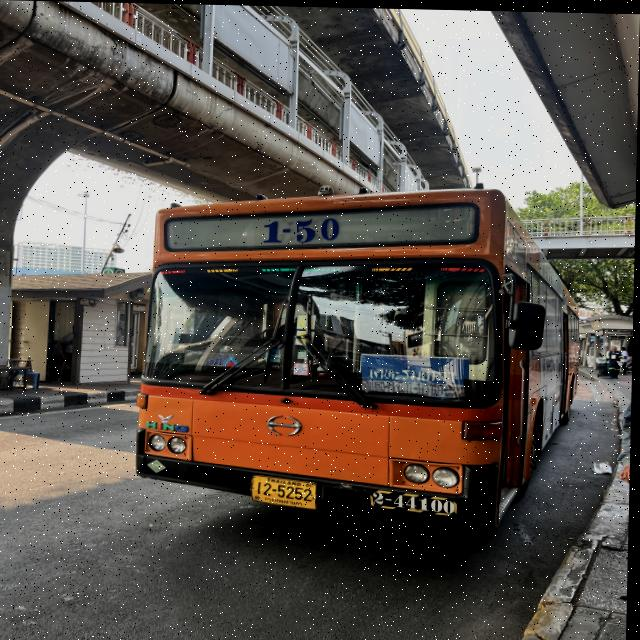BMTA-bus: (134, 182, 581, 530)
Bus-Line-Number: (255, 213, 349, 245)
Destination-Sign-Normal: (360, 351, 472, 399)
